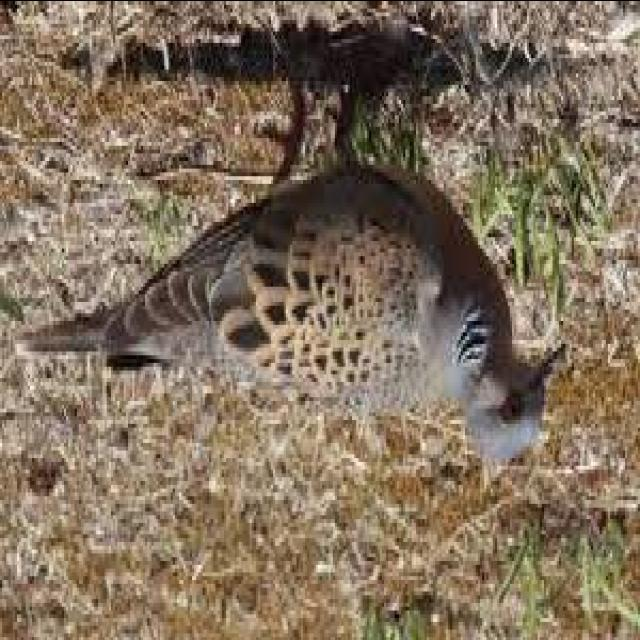pigeon: (30, 119, 592, 499)
